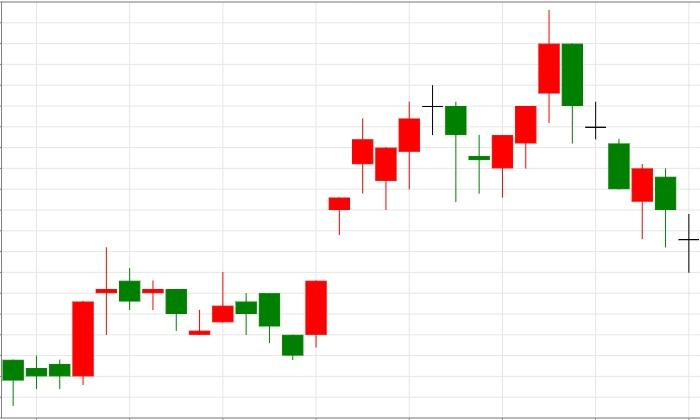evening_star_fall: (304, 84, 466, 348)
